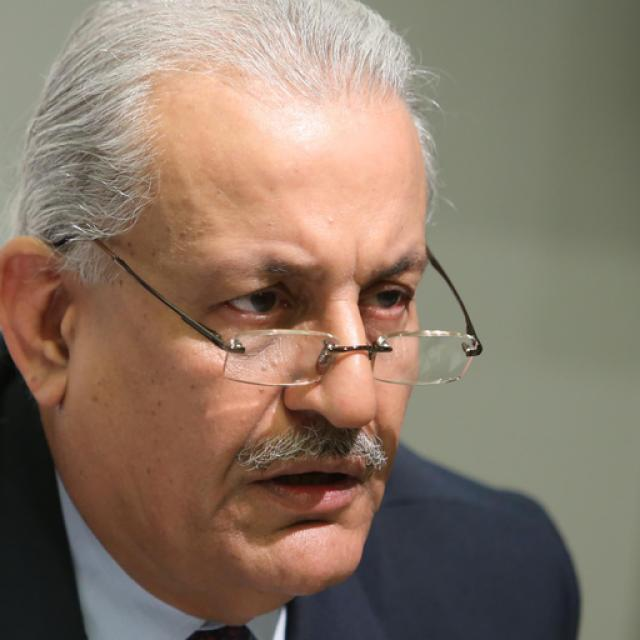anger: (89, 97, 425, 594)
